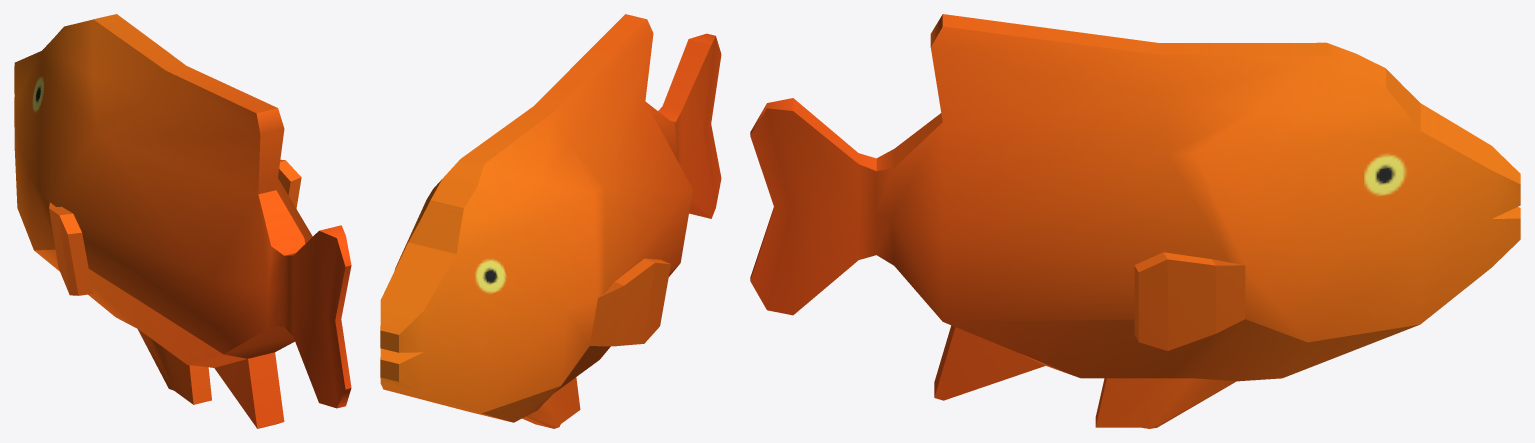
The model's file is garibaldiFish.fbx.
The picture shows the model from 3 angles, left to right: view 1: azimuth 30°, elevation 25°; view 2: azimuth 150°, elevation 25°; view 3: azimuth 270°, elevation 25°; orthographic projection. The views are drawn at different scales.
Parts seen in each view (by area): view 1: GaribaldiFish; view 2: GaribaldiFish; view 3: GaribaldiFish.
Boxes of the visible parts, x1,y1,x2,y2 form: GaribaldiFish: [14, 14, 351, 428]; GaribaldiFish: [380, 14, 721, 428]; GaribaldiFish: [750, 14, 1520, 428].
Size of the model in its own units: 0.2716 by 0.3764 by 0.6536.
